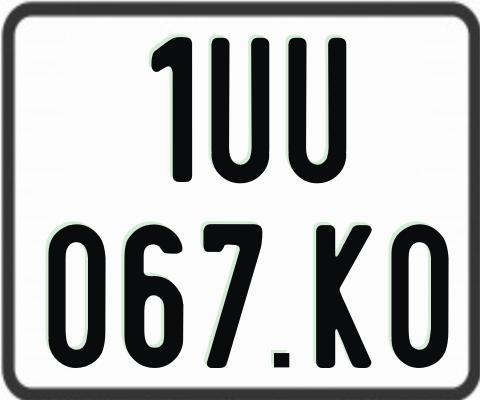0: (388, 224, 447, 374), (48, 222, 106, 366)
1: (148, 34, 193, 179)
6: (123, 221, 186, 366)
7: (201, 223, 261, 367)
K: (316, 225, 373, 369)
U: (208, 35, 271, 185), (286, 37, 344, 184)
